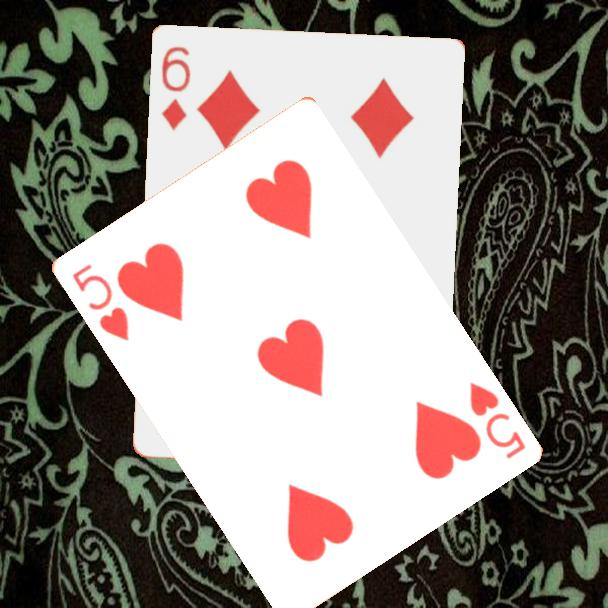d06: (158, 43, 194, 134)
h05: (67, 260, 132, 344), (465, 378, 528, 462)
